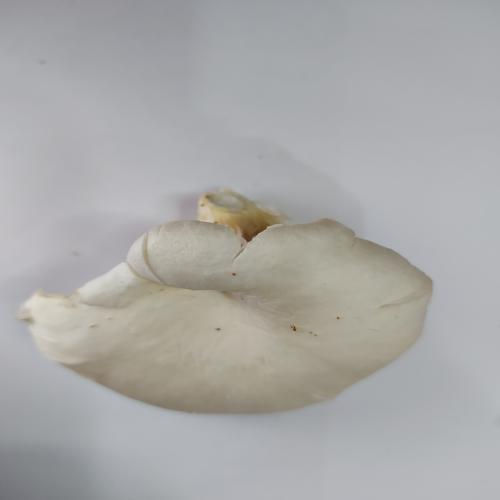Oyster Mushroom: (17, 212, 434, 415)
